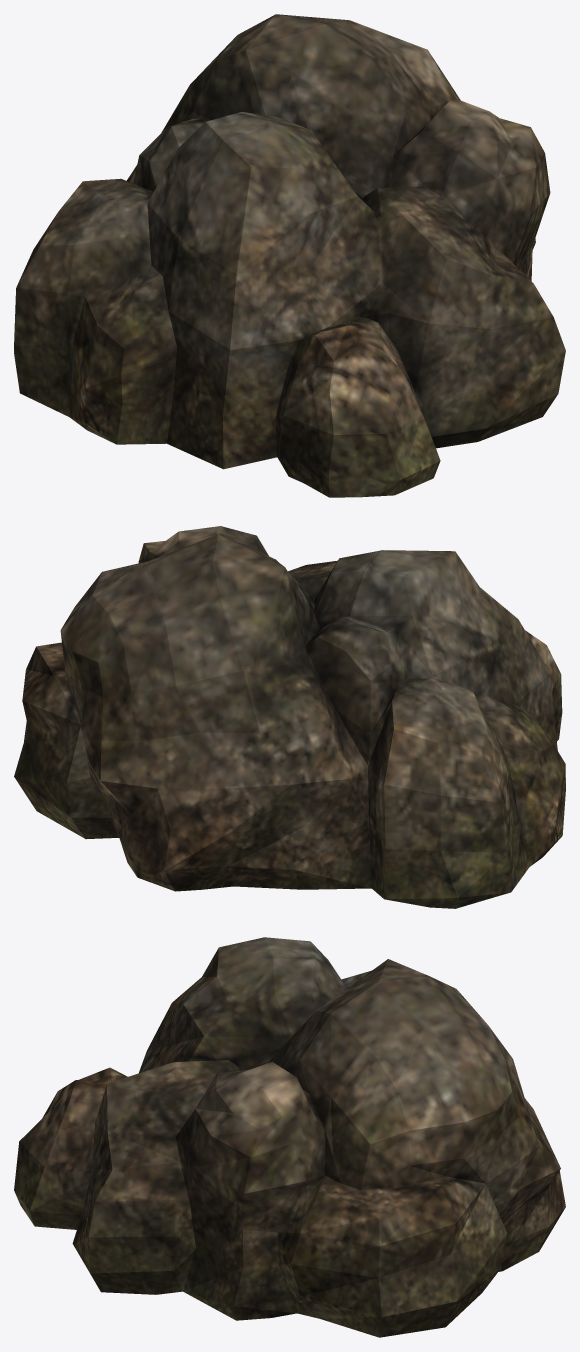
The model's file is Boulder_rock.fbx.
The picture shows the model from 3 angles, top to bottom: view 1: azimuth 30°, elevation 25°; view 2: azimuth 150°, elevation 25°; view 3: azimuth 270°, elevation 25°; orthographic projection. The views are drawn at different scales.
Parts seen in each view (by area): view 1: Boulder_rock; view 2: Boulder_rock; view 3: Boulder_rock.
Part boxes in pixels (bbox=[...]): Boulder_rock: bbox=[14, 14, 565, 497]; Boulder_rock: bbox=[14, 526, 565, 908]; Boulder_rock: bbox=[14, 937, 565, 1337].
Size of the model in its own units: 16.17 by 9.21 by 16.42.
